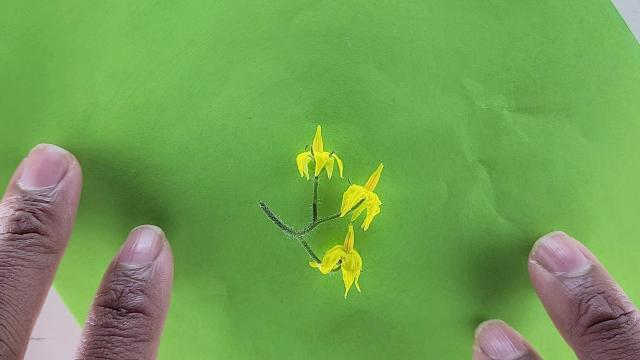Anthesis: (315, 223, 364, 303), (339, 165, 386, 233), (296, 125, 344, 184)
